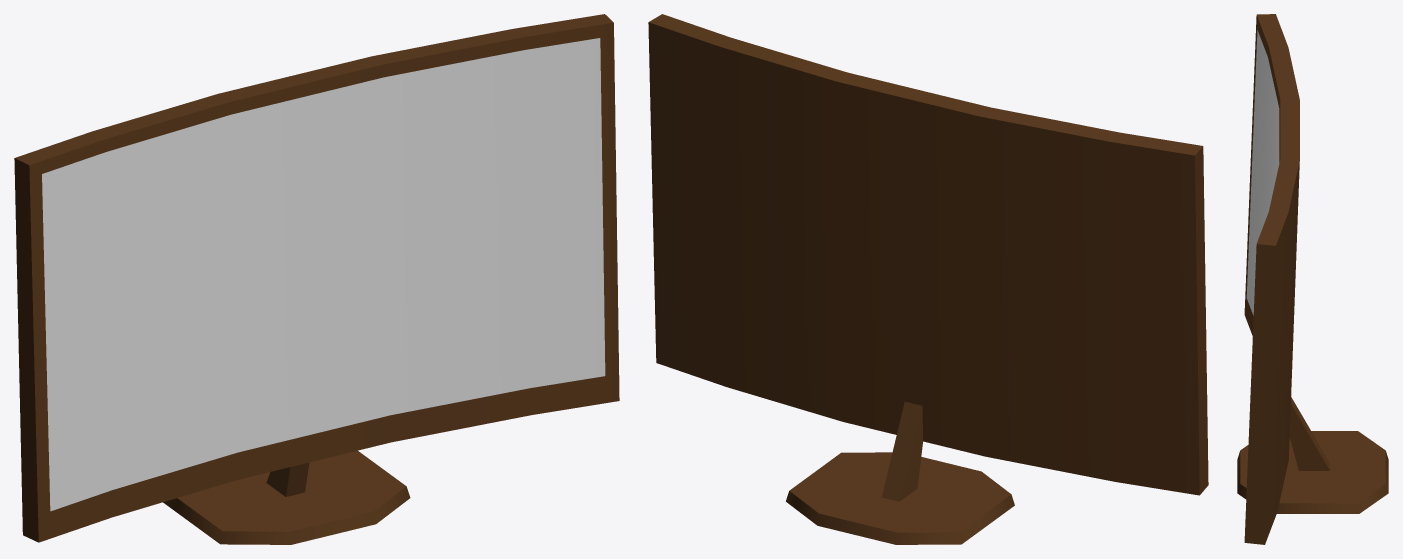
The picture shows the model from 3 angles, left to right: view 1: azimuth 30°, elevation 25°; view 2: azimuth 150°, elevation 25°; view 3: azimuth 270°, elevation 25°; orthographic projection. The views are drawn at different scales.
Visible parts, largest first — view 1: electronics_024; view 2: electronics_024; view 3: electronics_024.
Part boxes in pixels (left/top/right/bottom): electronics_024: left=14, top=14, right=619, bottom=544; electronics_024: left=648, top=14, right=1208, bottom=544; electronics_024: left=1237, top=14, right=1388, bottom=544.
Size of the model in its own units: 0.6744 by 0.4713 by 0.1862.
